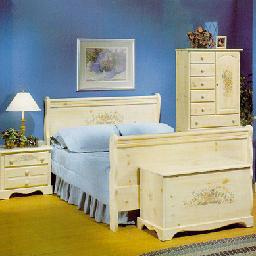Armario: (181, 52, 242, 125)
Cama: (48, 98, 250, 236)
